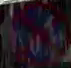No waiting: (6, 0, 67, 67)
